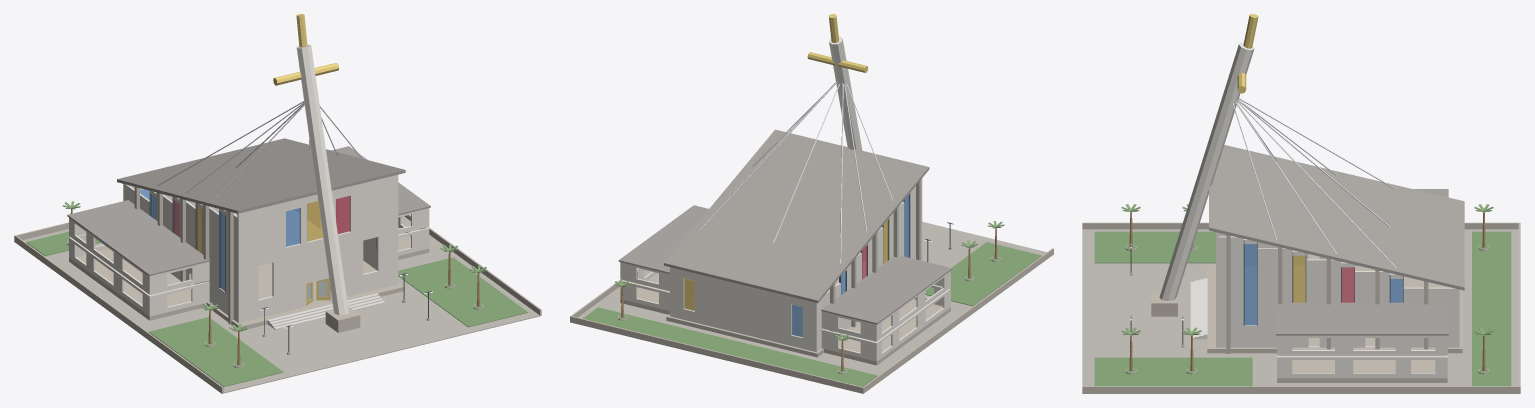
The model's file is SM_Cathedrale_Saint_Paul.fbx.
3 views of the same model, side by side, from view 1: azimuth 30°, elevation 25°; view 2: azimuth 150°, elevation 25°; view 3: azimuth 270°, elevation 25° (orthographic). The views are drawn at different scales.
Visible parts, largest first — view 1: Cath_Ext_Site, Cath_Ext_Walls, Cath_Ext_Roof, Cath_Ext_Details; view 2: Cath_Ext_Roof, Cath_Ext_Site, Cath_Ext_Walls, Cath_Ext_Details; view 3: Cath_Ext_Site, Cath_Ext_Roof, Cath_Ext_Walls, Cath_Ext_Details.
Part boxes in pixels (<box>): Cath_Ext_Site: <box>14,210,541,393</box>; Cath_Ext_Walls: <box>69,175,429,322</box>; Cath_Ext_Roof: <box>67,138,430,276</box>; Cath_Ext_Details: <box>62,14,487,368</box>; Cath_Ext_Roof: <box>618,129,952,324</box>; Cath_Ext_Site: <box>570,222,1053,393</box>; Cath_Ext_Walls: <box>620,178,950,361</box>; Cath_Ext_Details: <box>614,14,1004,374</box>; Cath_Ext_Site: <box>1082,222,1520,393</box>; Cath_Ext_Roof: <box>1209,145,1464,335</box>; Cath_Ext_Walls: <box>1216,232,1459,378</box>; Cath_Ext_Details: <box>1121,14,1493,374</box>.
Bounding box in the file's own units: 6400 × 5379 × 7200.
